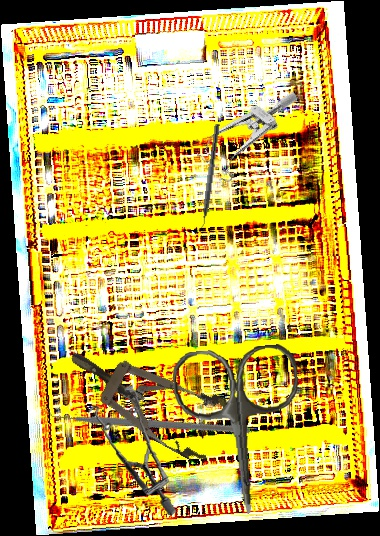Chopper: (41, 321, 251, 513), (194, 122, 220, 236)
Iris Scissors: (171, 342, 309, 520)
Speculum: (55, 324, 241, 470), (79, 380, 187, 516), (188, 66, 301, 195)
